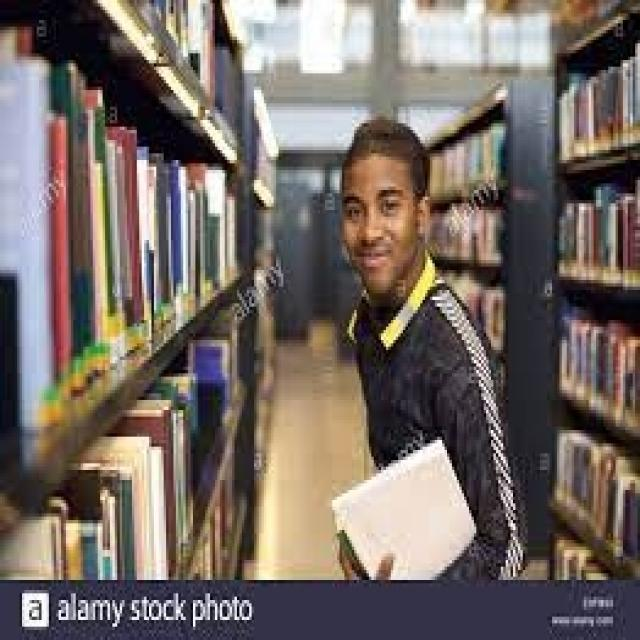walking: (325, 108, 521, 584)
